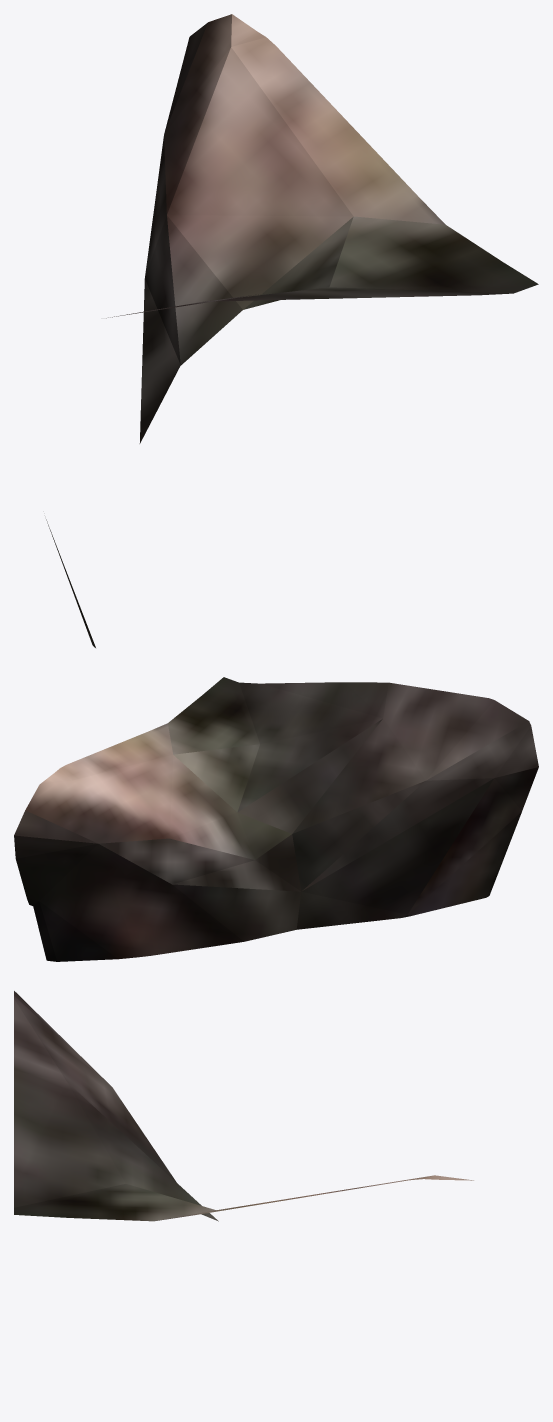
3 views of the same model, one above another, from view 1: azimuth 30°, elevation 25°; view 2: azimuth 150°, elevation 25°; view 3: azimuth 270°, elevation 25° (orthographic). The views are drawn at different scales.
Bounding box in the file's own units: 0.1177 × 0.0705 × 0.1357.
Materials: 1 (1 with a texture image).
